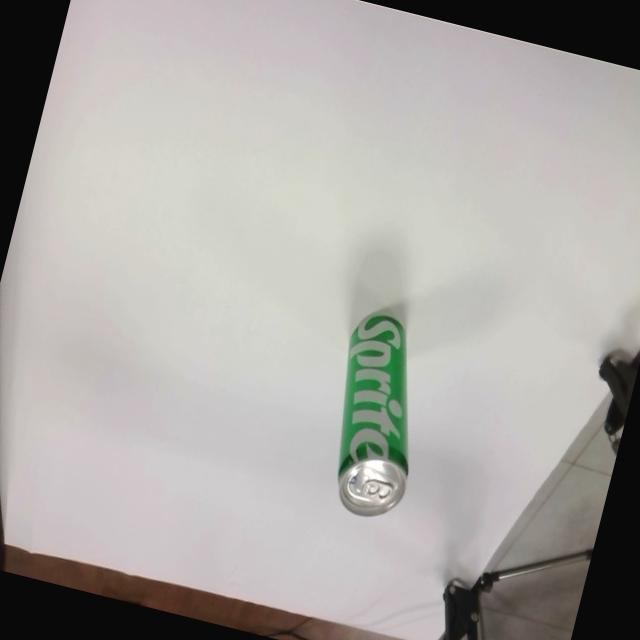debris: (308, 304, 446, 526)
